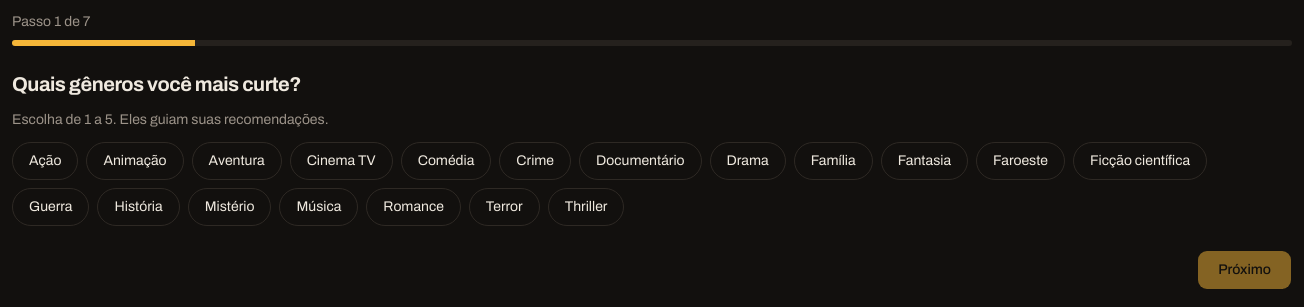
Scenario: OnboardingWizard › só libera o Próximo depois de escolher um gênero
expect the text "Passo 1 de 7" is shown: met, box [12,14,90,29]
expect the button "Próximo" is disabled: met, box [1197,250,1292,290]
Click the button "Drama" at (748, 161), box [710,142,786,180]
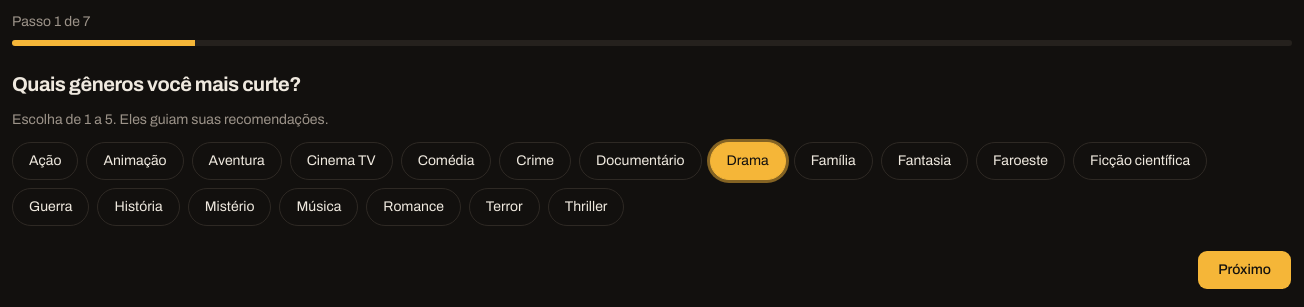
expect the button "Próximo" is enabled: met, box [1197,250,1292,290]
